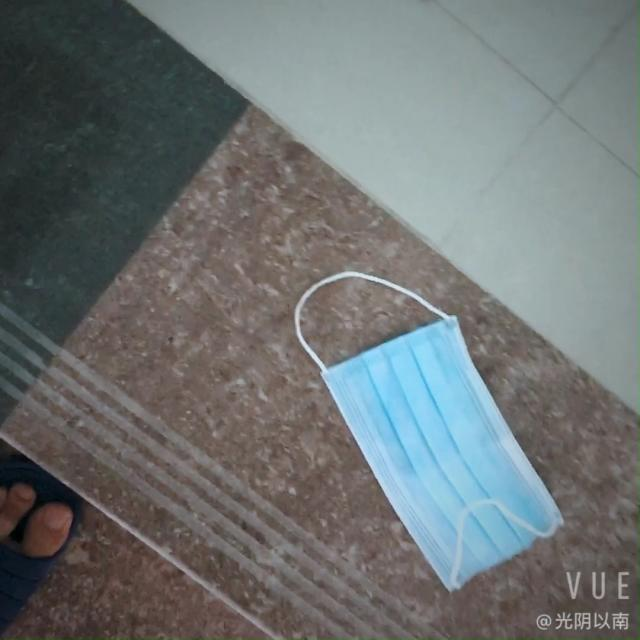face mask: (318, 312, 554, 596)
